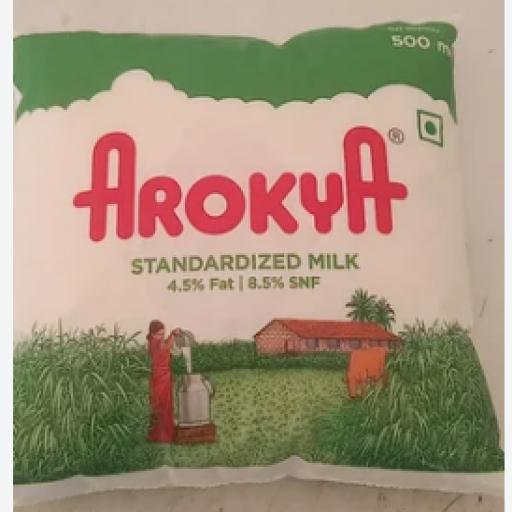green_milk: (12, 22, 504, 490)
